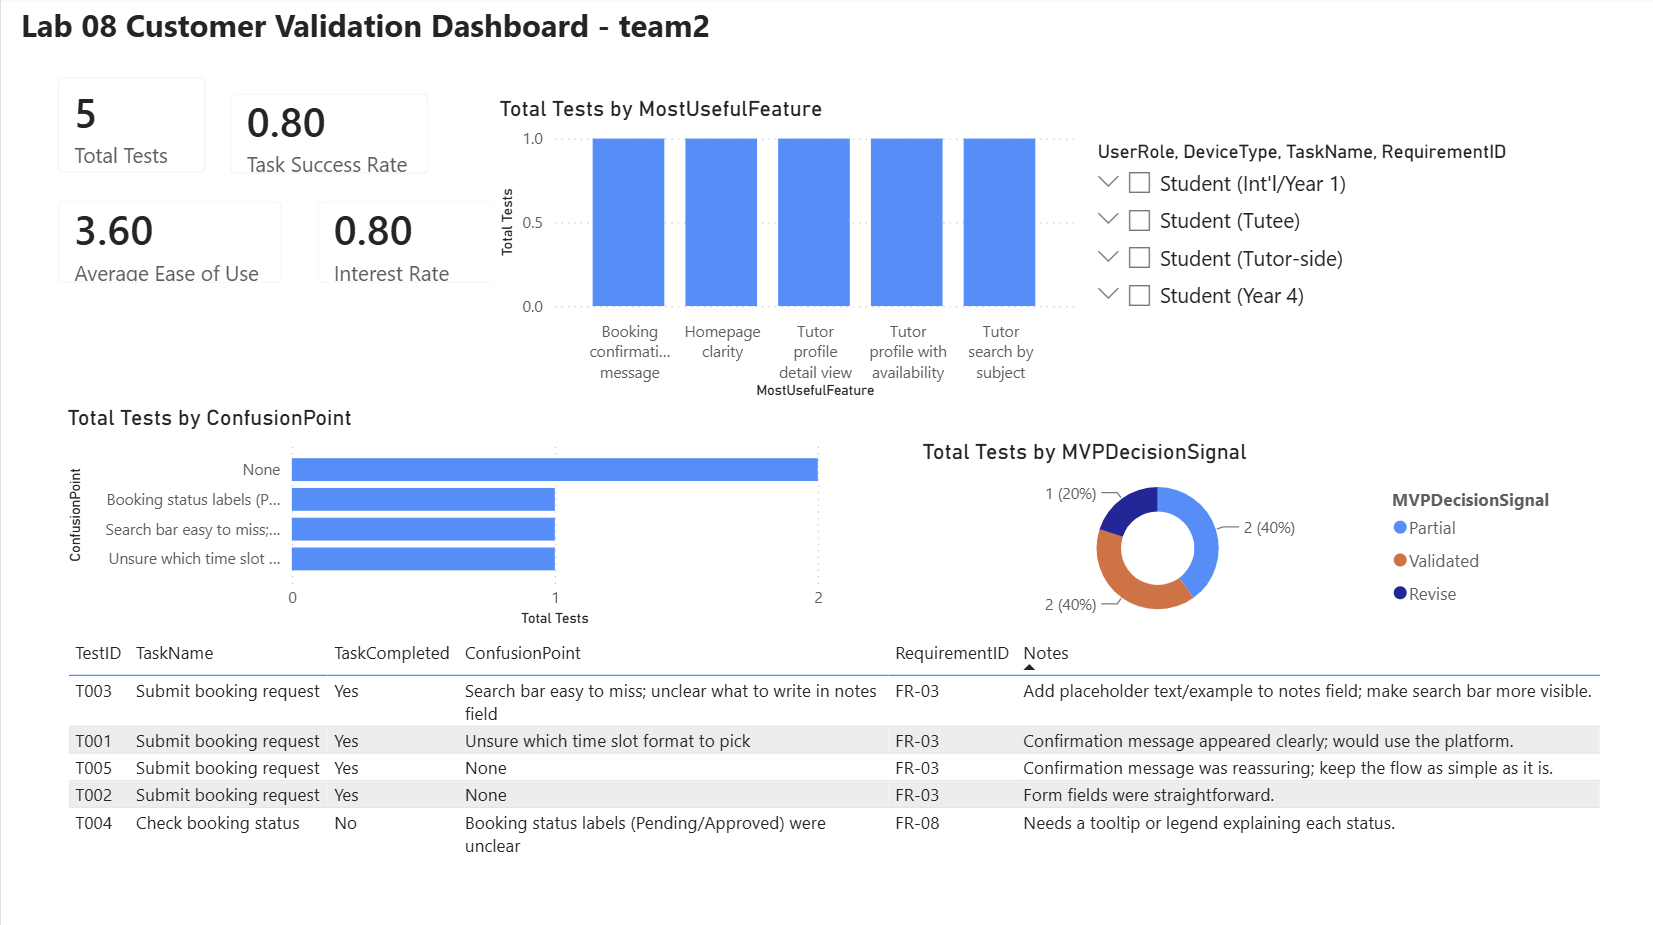

The dashboard page shown, as its layout file describes it:
{"tool":"powerbi","page":{"name":"Validation Dashboard","canvas":[1280,720],"ordinal":0},"visuals":[{"type":"textbox","box":[10.4,0,640.8,76.5],"z":0},{"type":"cardVisual","fields":{"Data":["ValidationResults.Total Tests"]},"box":[26.7,45.2,148.3,108.9],"z":1000},{"type":"cardVisual","fields":{"Data":["ValidationResults.Task Success Rate"]},"box":[159.9,57.9,187.7,96.2],"z":2000},{"type":"cardVisual","fields":{"Data":["ValidationResults.Average Ease of Use"]},"box":[26.7,141.4,207.4,97.3],"z":3000},{"type":"cardVisual","fields":{"Data":["ValidationResults.Interest Rate"]},"box":[227.1,141.4,173.8,97.3],"z":4000},{"type":"clusteredBarChart","fields":{"Category":["ValidationResults.ConfusionPoint"],"Y":["ValidationResults.Total Tests"]},"box":[46.3,315.2,593.3,176.1],"z":5000},{"type":"clusteredColumnChart","fields":{"Category":["ValidationResults.MostUsefulFeature"],"Y":["ValidationResults.Total Tests"]},"box":[380.1,76.5,454.2,238.7],"z":5001},{"type":"donutChart","fields":{"Category":["ValidationResults.MVPDecisionSignal"],"Y":["ValidationResults.Total Tests"]},"box":[706.8,341.8,508.7,149.5],"z":5002},{"type":"tableEx","fields":{"Values":["ValidationResults.TestID","ValidationResults.TaskName","ValidationResults.TaskCompleted","ValidationResults.ConfusionPoint","ValidationResults.RequirementID","ValidationResults.Notes"]},"box":[46.3,491.3,1198.1,228.3],"z":5003},{"type":"slicer","fields":{"Values":["ValidationResults.UserRole","ValidationResults.DeviceType","ValidationResults.TaskName","ValidationResults.RequirementID"]},"box":[834.3,106.6,399.8,176.1],"z":5004}]}

Visuals, with their boxes in screenshot pixels (x1, y1, x2, y2), scaled from the page's 1280x720 canvas onto the 1653x925 screenshot:
textbox: 13, 0, 841, 98
cardVisual - ValidationResults.Total Tests: 34, 58, 226, 198
cardVisual - ValidationResults.Task Success Rate: 206, 74, 449, 198
cardVisual - ValidationResults.Average Ease of Use: 34, 182, 302, 307
cardVisual - ValidationResults.Interest Rate: 293, 182, 518, 307
clusteredBarChart - ValidationResults.ConfusionPoint x ValidationResults.Total Tests: 60, 405, 826, 631
clusteredColumnChart - ValidationResults.MostUsefulFeature x ValidationResults.Total Tests: 491, 98, 1077, 405
donutChart - ValidationResults.MVPDecisionSignal x ValidationResults.Total Tests: 913, 439, 1570, 631
tableEx - ValidationResults.TestID x ValidationResults.TaskName: 60, 631, 1607, 924
slicer - ValidationResults.UserRole x ValidationResults.DeviceType: 1077, 137, 1594, 363
